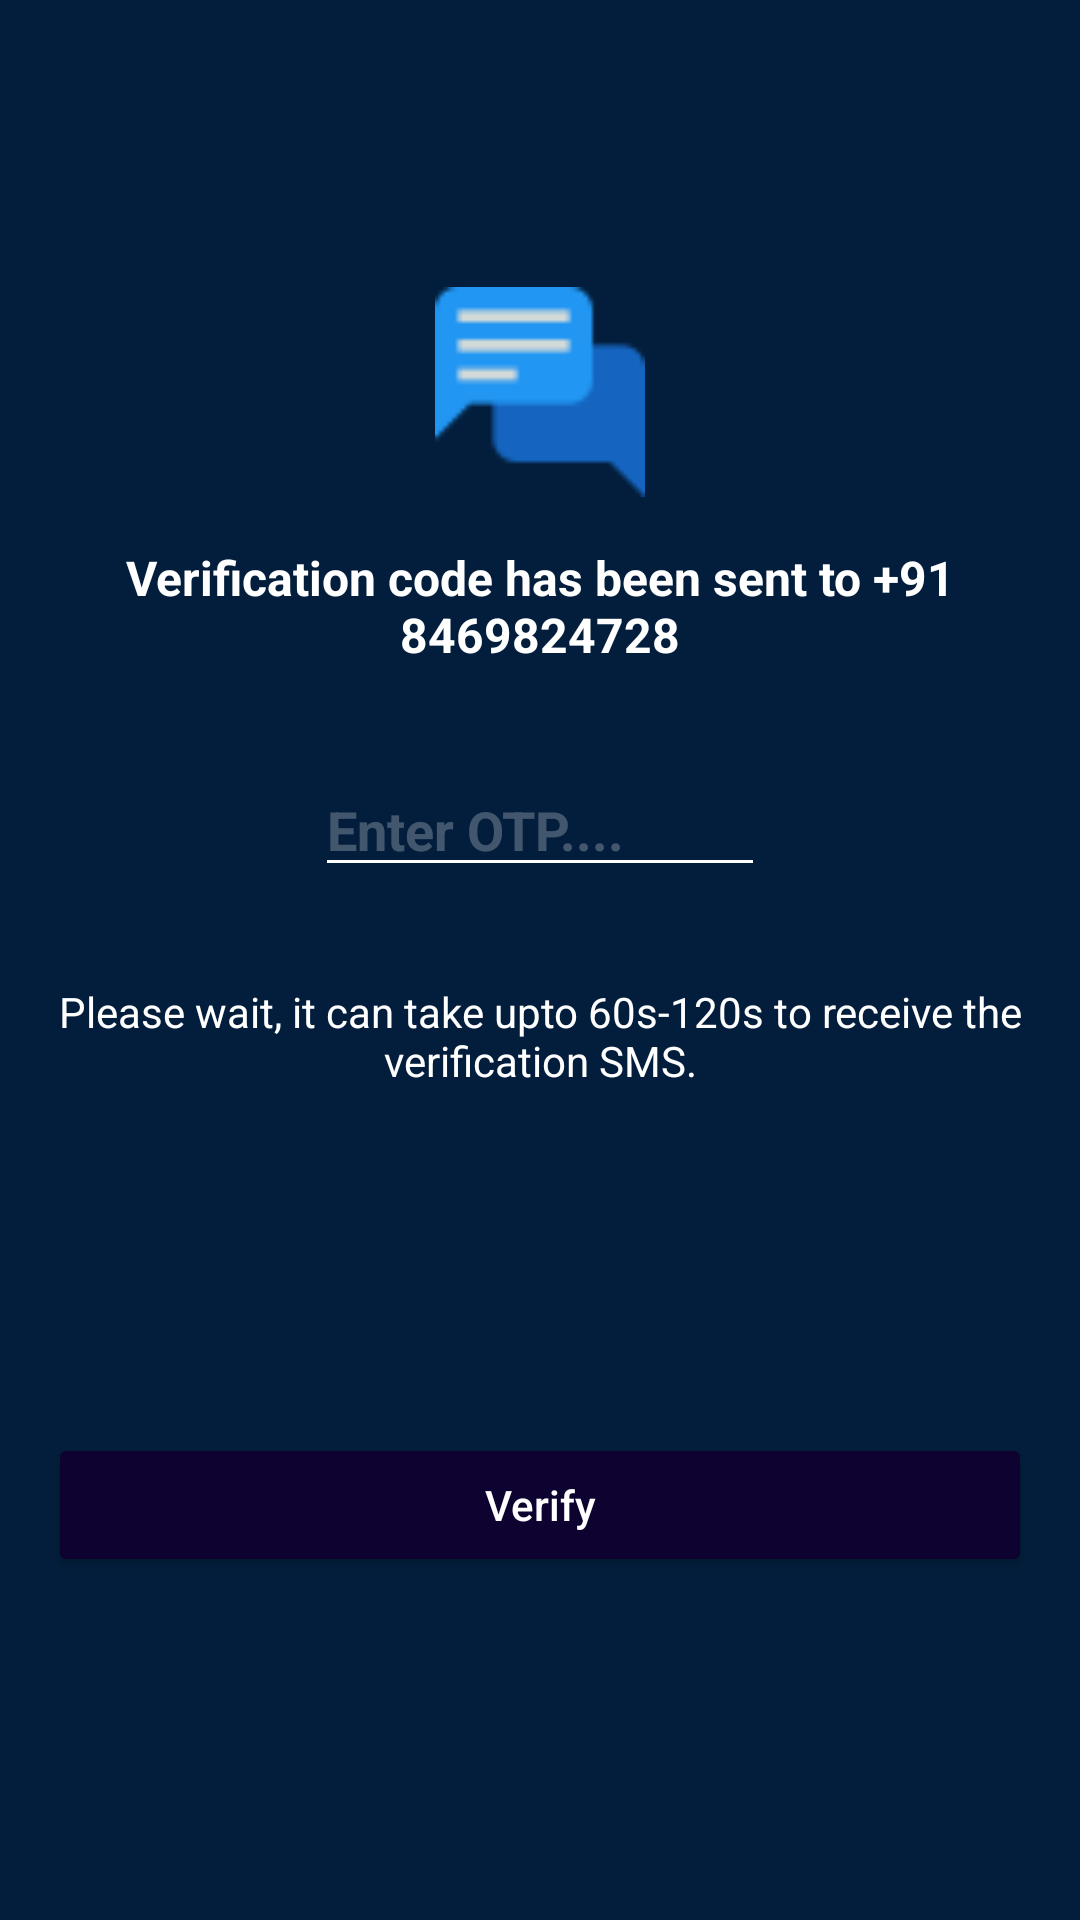

Icons on this 1080*1920 Android screen, each with its box as (x1, y1, x2, y2):
sms verification: (435, 287, 645, 497)
